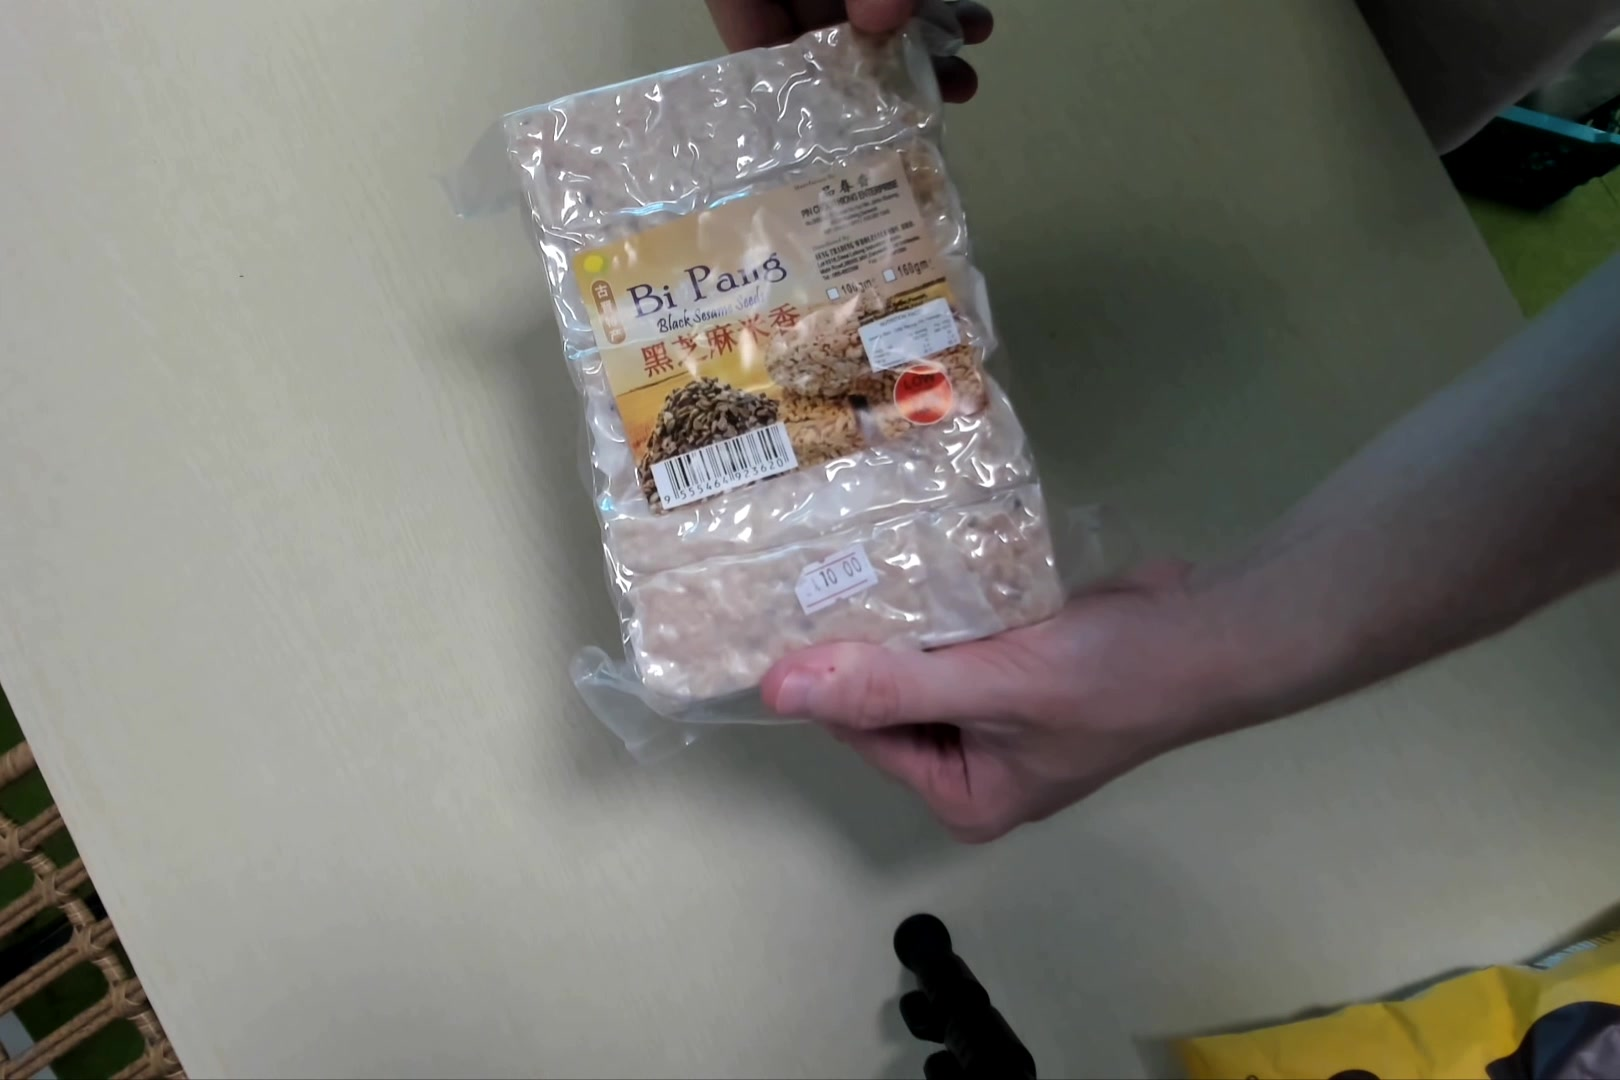PotatoChipsKeropok_100-199g_NonHalal_NonHealthy: (489, 20, 1069, 709)
